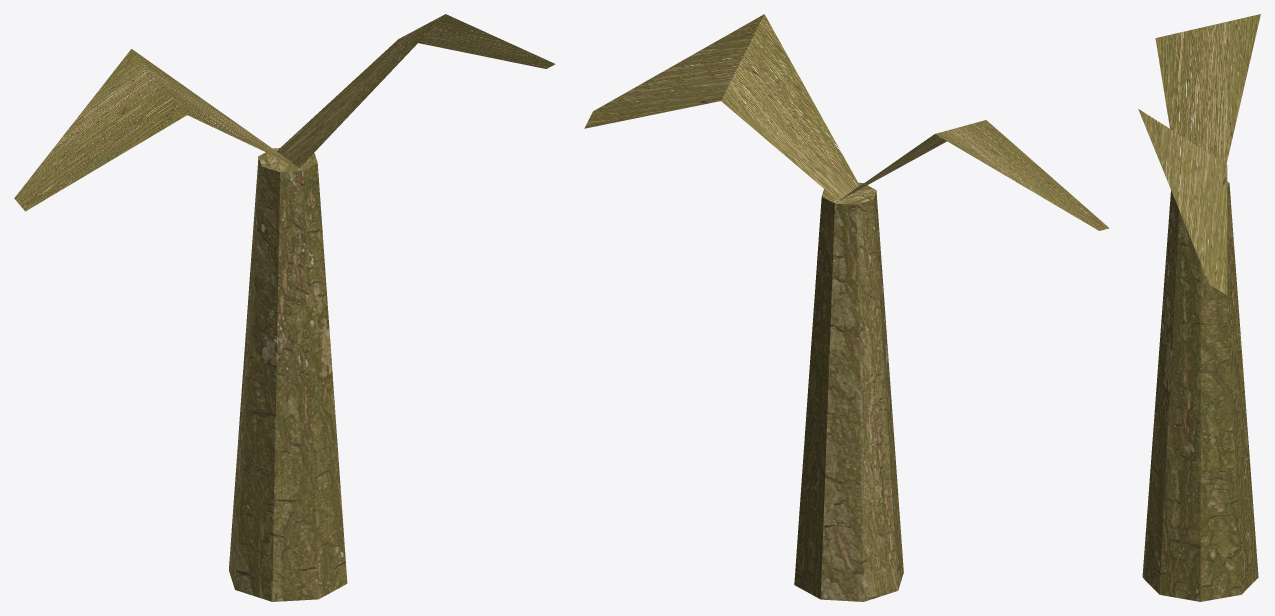
File: plant1.glb
3 renders of one model, left to right at view 1: azimuth 30°, elevation 25°; view 2: azimuth 150°, elevation 25°; view 3: azimuth 270°, elevation 25°, orthographic. The views are drawn at different scales.
Parts seen in each view (by area): view 1: plant1; view 2: plant1; view 3: plant1.
Part boxes in pixels (x1,y1,x2,y2): plant1: [14, 14, 555, 601]; plant1: [584, 14, 1109, 601]; plant1: [1138, 14, 1260, 601].
Bounding box in the file's own units: 0.1624 × 0.1585 × 0.0335.
1 material, 1 textured.
